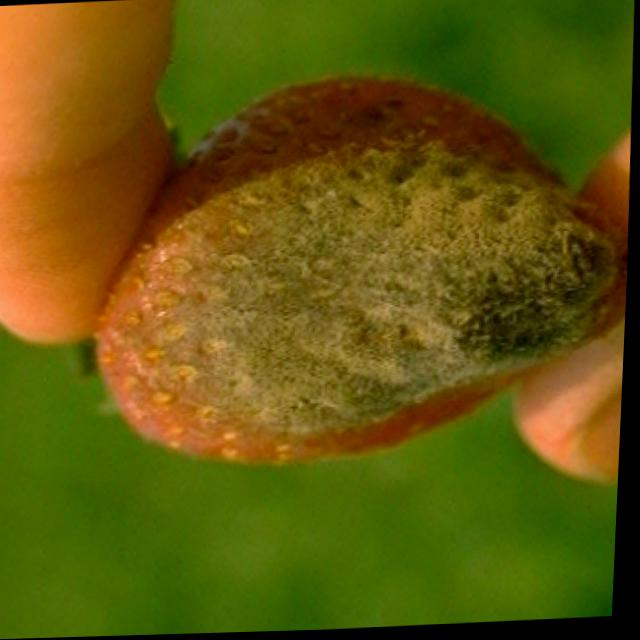Gray Mold: (110, 111, 630, 459)
